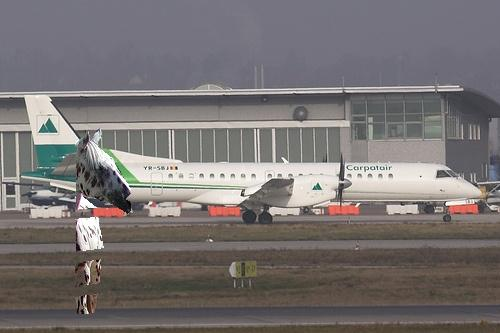tampered: (76, 128, 131, 314)
